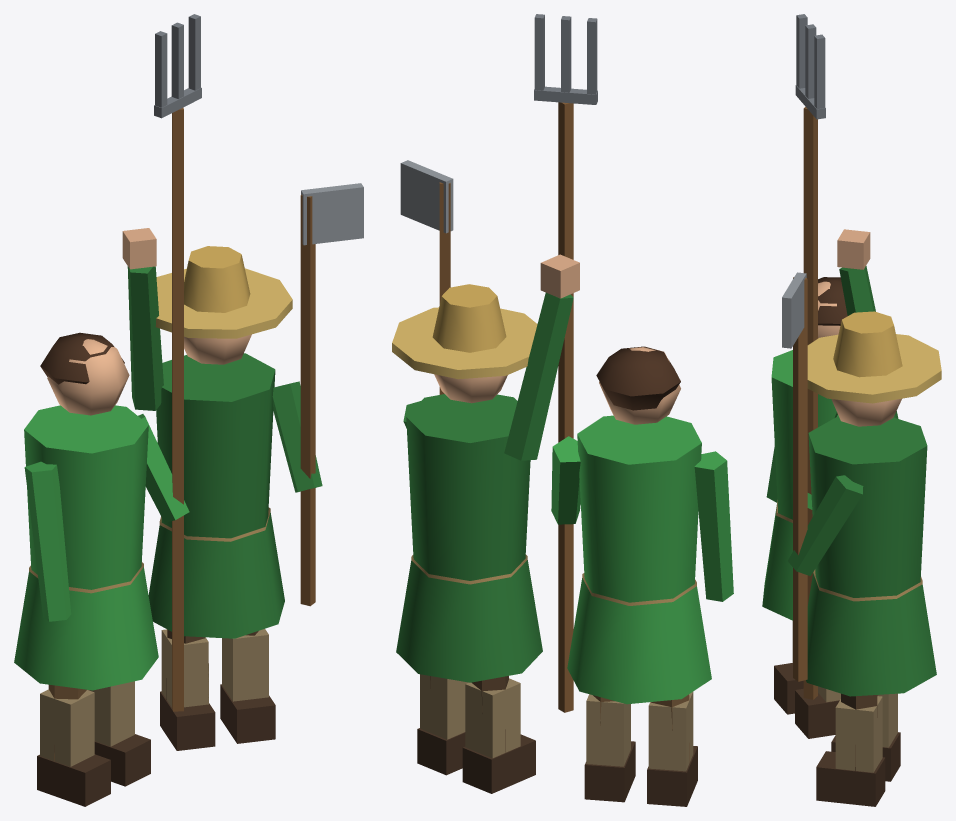
The model's file is sentry_dl1_green.glb.
The picture shows the model from 3 angles, left to right: view 1: azimuth 30°, elevation 25°; view 2: azimuth 150°, elevation 25°; view 3: azimuth 270°, elevation 25°; orthographic projection. The views are drawn at different scales.
Parts seen in each view (by area): view 1: sentry_dl1_green; view 2: sentry_dl1_green; view 3: sentry_dl1_green.
Part boxes in pixels (left/top/right/bottom): sentry_dl1_green: left=14, top=14, right=363, bottom=806; sentry_dl1_green: left=392, top=14, right=733, bottom=806; sentry_dl1_green: left=762, top=14, right=941, bottom=806.
Size of the model in its own units: 0.2856 by 0.6199 by 0.1388.
1 material, 1 textured.
